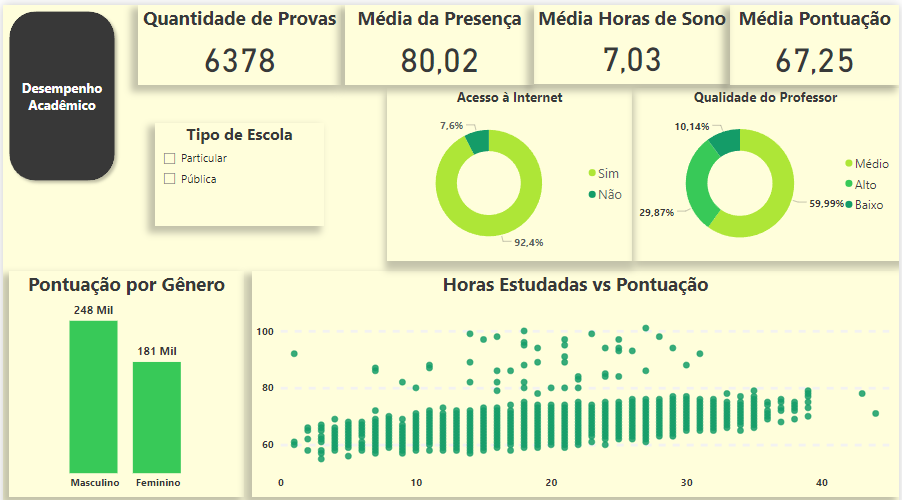

The dashboard page shown, as its layout file describes it:
{"tool":"powerbi","page":{"name":"HOME","canvas":[1280,720],"ordinal":0},"visuals":[{"type":"card","title":"Média Pontuação","fields":{"Values":["Avg(tb_alunos.Pontuação_da_Prova)"]},"box":[1038,0,242,114],"z":0},{"type":"card","title":"Média Horas de Sono","fields":{"Values":["Avg(tb_alunos.Horas_de_Sono)"]},"box":[758.3,0,280,113.3],"z":1000},{"type":"card","title":"Média da Presença","fields":{"Values":["Avg(tb_alunos.Presença)"]},"box":[488.6,0,270,114.3],"z":2000},{"type":"card","title":"Quantidade de Provas","fields":{"Values":["CountNonNull(tb_alunos.Pontuação_da_Prova)"]},"box":[192.9,0,290,114.3],"z":3000},{"type":"columnChart","title":"Pontuação por Gênero","fields":{"Category":["tb_alunos.Gênero"],"Y":["Sum(tb_alunos.Pontuação_da_Prova)"]},"box":[8.6,380,335.7,322.9],"z":4000},{"type":"scatterChart","title":"Horas Estudadas vs Pontuação","fields":{"X":["tb_alunos.Horas_Estudadas"],"Y":["tb_alunos.Pontuação_da_Prova"]},"box":[355.7,380,924.3,322.9],"z":5000},{"type":"donutChart","title":"Qualidade do Professor","fields":{"Category":["tb_alunos.Qualidade_do_Professor"],"Y":["CountNonNull(tb_alunos.Pontuação_da_Prova)"]},"box":[898.6,118.6,381.4,247.1],"z":6000},{"type":"donutChart","title":"Acesso à Internet","fields":{"Category":["tb_alunos.Acesso_à_Internet"],"Y":["CountNonNull(tb_alunos.Pontuação_da_Prova)"]},"box":[548.3,118.3,350,246.7],"z":7000},{"type":"slicer","title":"Tipo de Escola","fields":{"Values":["tb_alunos.Tipo_de_Escola"]},"box":[217.1,168.6,241.4,147.1],"z":8000},{"type":"shape","box":[0,0,168.6,260],"z":9000}]}

Visuals, with their boxes in screenshot pixels (x1, y1, x2, y2), scaled from the page's 1280x720 canvas onto the 902x500 screenshot:
"Média Pontuação" card: 731/0/901/79
"Média Horas de Sono" card: 534/0/732/79
"Média da Presença" card: 344/0/535/79
"Quantidade de Provas" card: 136/0/340/79
"Pontuação por Gênero" columnChart: 6/264/243/488
"Horas Estudadas vs Pontuação" scatterChart: 251/264/901/488
"Qualidade do Professor" donutChart: 633/82/901/254
"Acesso à Internet" donutChart: 386/82/633/253
"Tipo de Escola" slicer: 153/117/323/219
shape: 0/0/119/181
